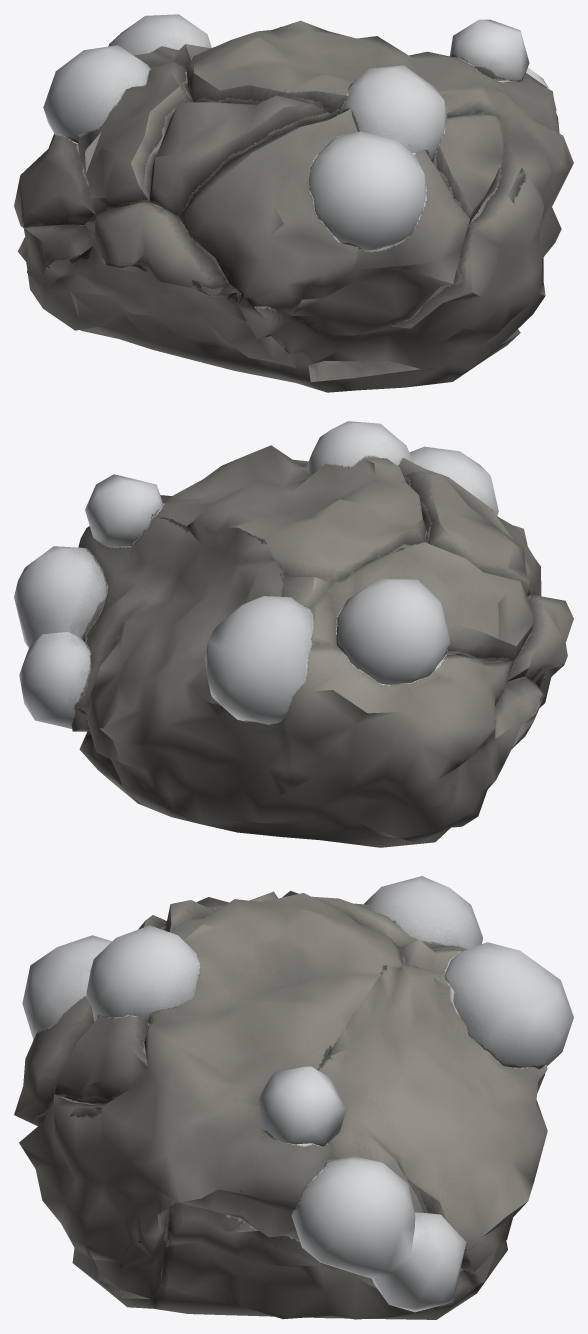
File: mineral_estano.fbx
3 renders of one model, top to bottom at view 1: azimuth 30°, elevation 25°; view 2: azimuth 150°, elevation 25°; view 3: azimuth 270°, elevation 25°, orthographic. The views are drawn at different scales.
Visible parts, largest first — view 1: mineral_estano; view 2: mineral_estano; view 3: mineral_estano.
Part boxes in pixels (x1,y1,x2,y2): mineral_estano: [14, 14, 573, 392]; mineral_estano: [14, 421, 573, 847]; mineral_estano: [14, 876, 573, 1319].
Size of the model in its own units: 2.63 by 1.47 by 2.31.
Materials: 1 (1 with a texture image).
